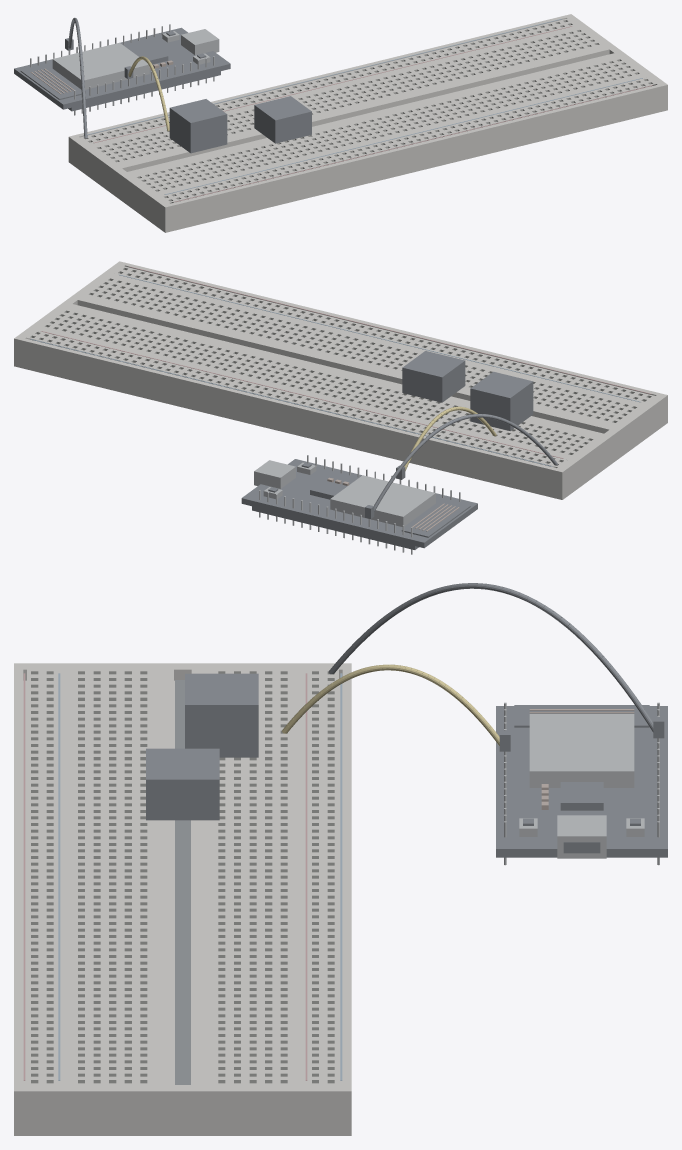
File: step-6.glb
The picture shows the model from 3 angles, top to bottom: view 1: azimuth 30°, elevation 25°; view 2: azimuth 150°, elevation 25°; view 3: azimuth 270°, elevation 25°; orthographic projection. The views are drawn at different scales.
Visible parts, largest first — view 1: breadboard__mesh, uno__mesh, piezo__mesh, button__mesh, ground_supply__mesh, piezo_signal__mesh; view 2: breadboard__mesh, uno__mesh, piezo__mesh, button__mesh, ground_supply__mesh, piezo_signal__mesh; view 3: breadboard__mesh, uno__mesh, piezo__mesh, button__mesh, ground_supply__mesh, piezo_signal__mesh.
Part boxes in pixels (x1,y1,x2,y2): breadboard__mesh: (68,14,667,232); uno__mesh: (14,24,230,115); piezo__mesh: (169,99,227,153); button__mesh: (254,96,311,143); ground_supply__mesh: (65,17,87,138); piezo_signal__mesh: (124,56,169,131); breadboard__mesh: (14,261,667,499); uno__mesh: (241,455,477,554); piezo__mesh: (470,371,533,430); button__mesh: (402,351,465,402); ground_supply__mesh: (365,414,557,518); piezo_signal__mesh: (396,406,496,479); breadboard__mesh: (14,663,351,1135); uno__mesh: (496,702,667,865); piezo__mesh: (185,673,258,757); button__mesh: (146,748,219,820); ground_supply__mesh: (328,583,664,738); piezo_signal__mesh: (282,664,510,751).
Bounding box in the file's own units: 0.165 × 0.0297 × 0.1065.
